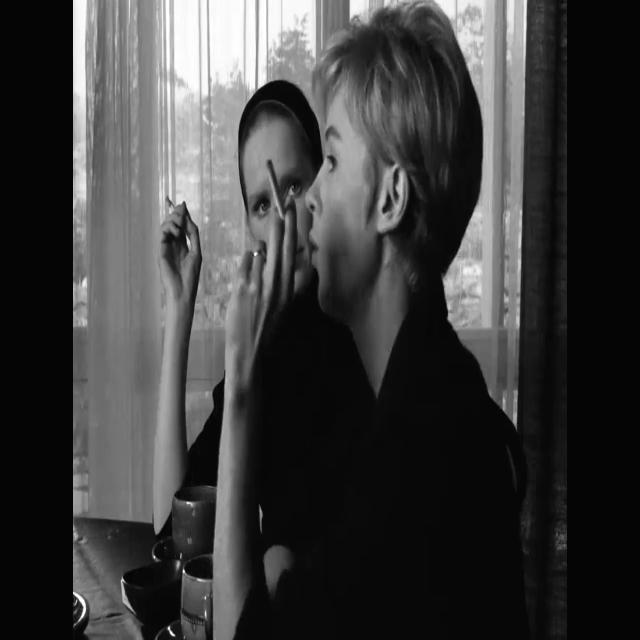Smooking: (260, 150, 293, 218)
